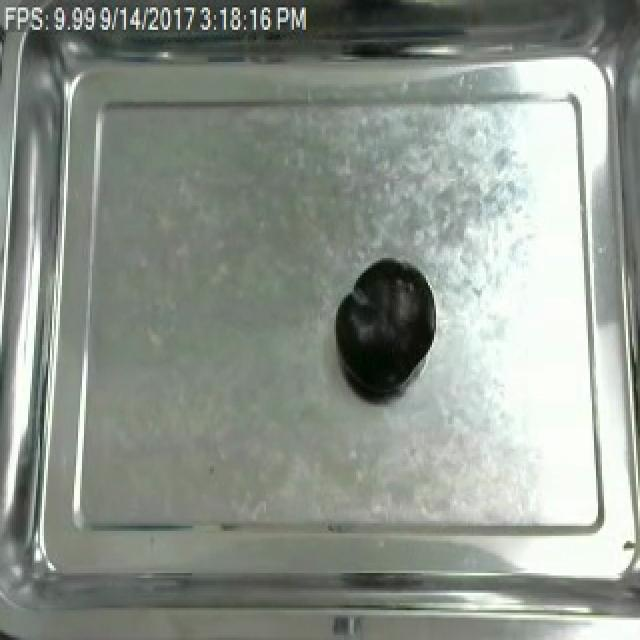Fruit: (330, 255, 436, 397)
